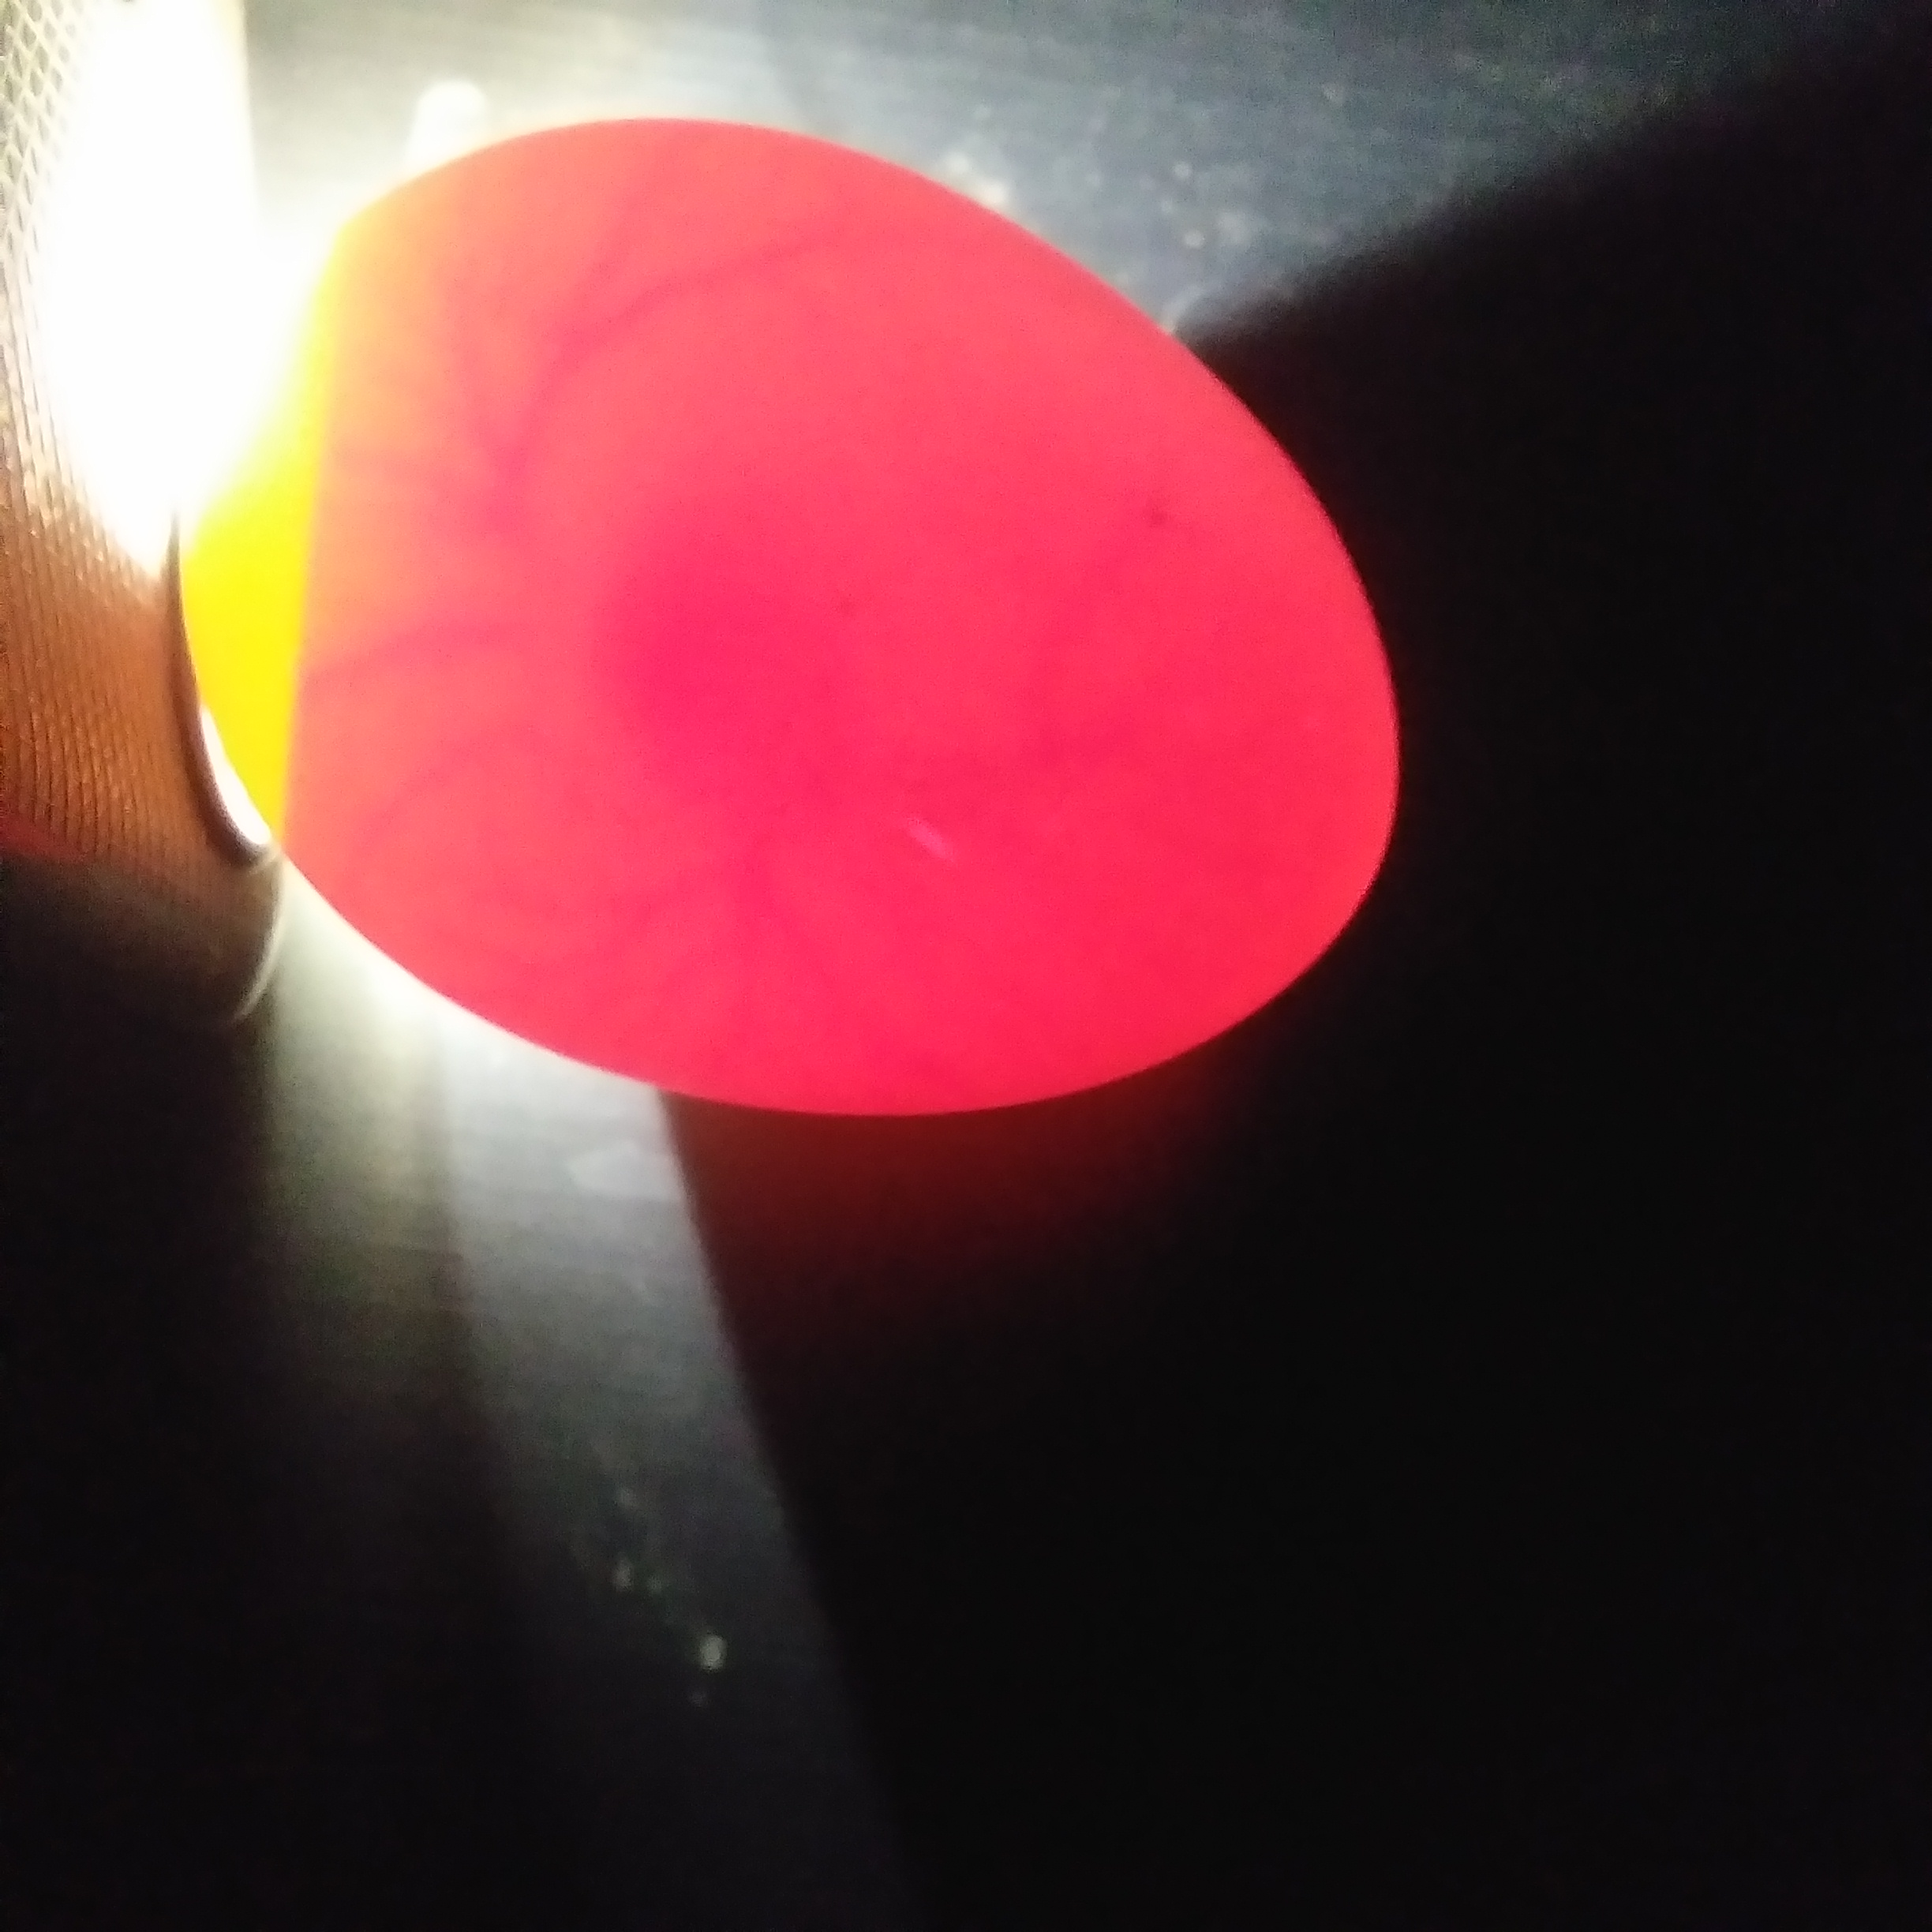bloodcell: (269, 234, 593, 916), (633, 839, 1051, 1076)
